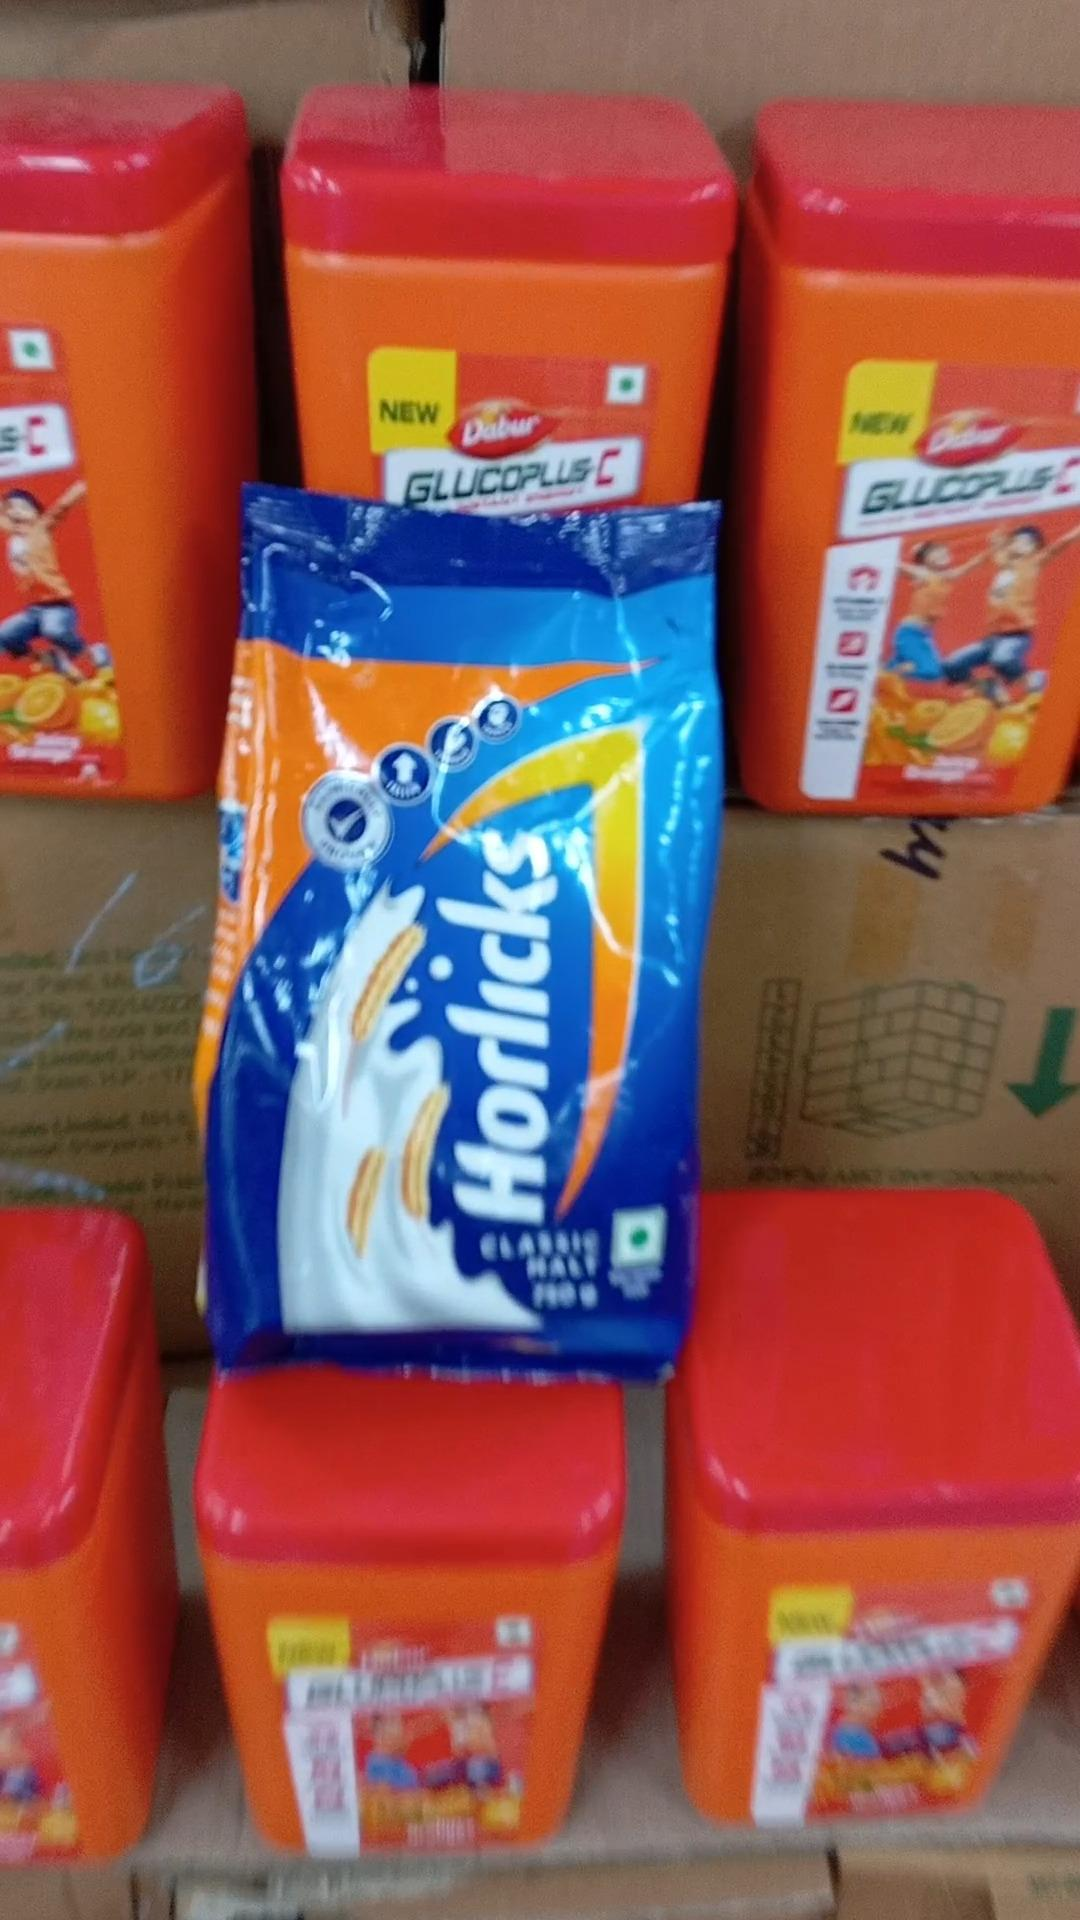HORLICK_CLASSIC_MALT_750_G_POUCH: (232, 479, 715, 1371)
